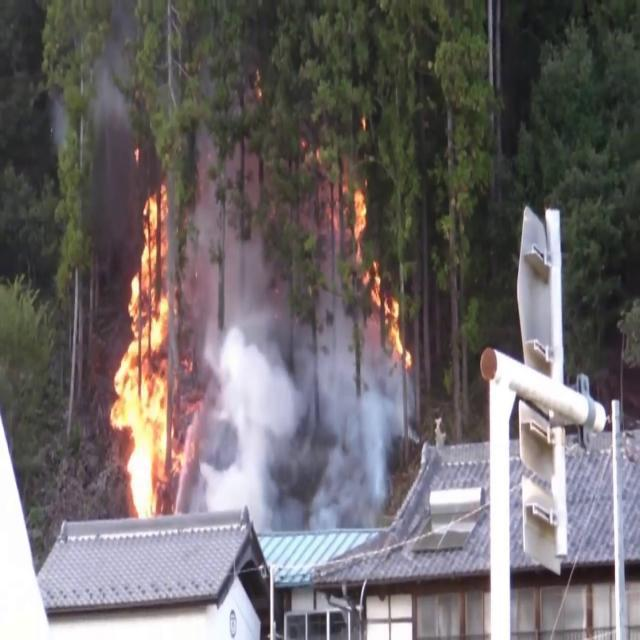Fire: (104, 181, 186, 515), (342, 178, 412, 368)
Smoke: (182, 210, 408, 566)
